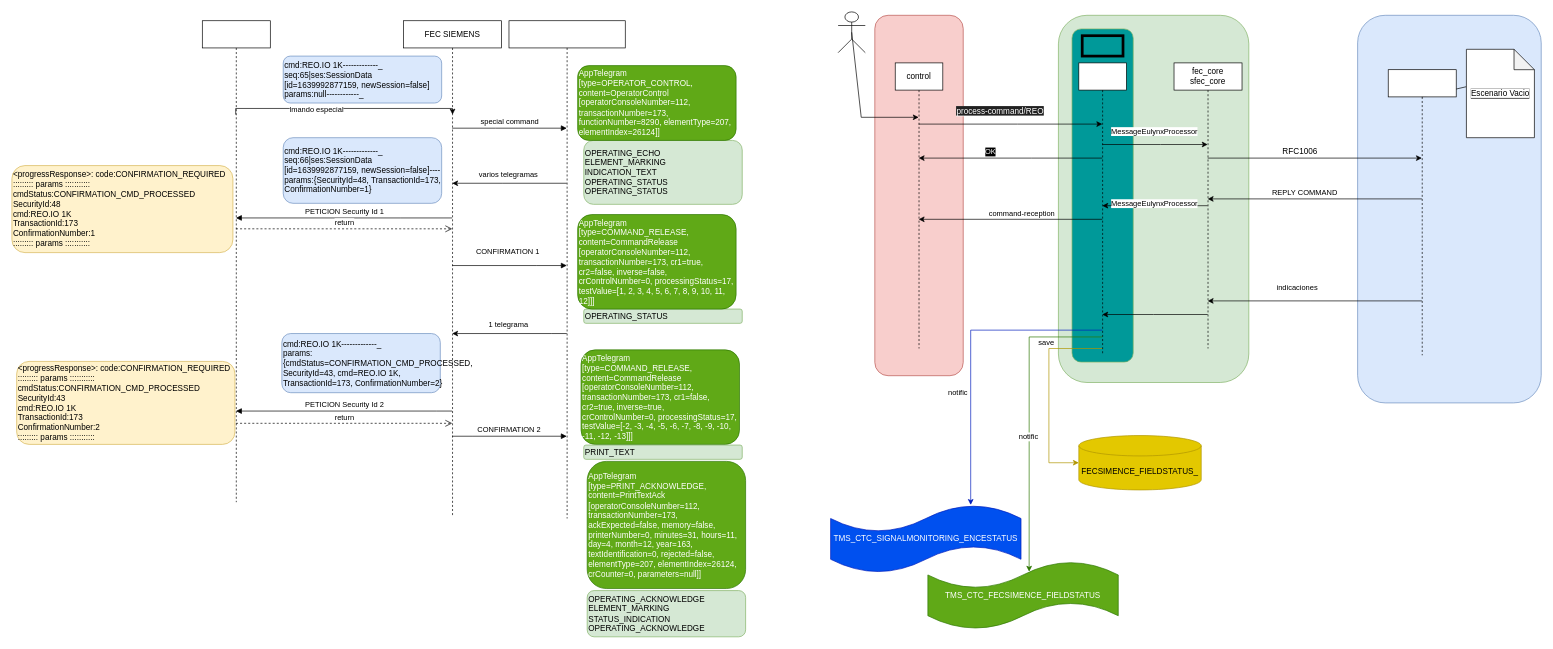
This 1553x649 diagram has some shape labels left out. Here are the shapes that lost their labels. From the top down, the box of each, then its label:
(837, 11, 865, 53): COMMAND WINDOWS ARS
(1081, 34, 1124, 57): spring boot
(1078, 62, 1126, 355): fecsiemens
(1388, 69, 1456, 355): PDS Test
(202, 20, 270, 502): CTC DUMMY
(508, 20, 625, 518): PDS
